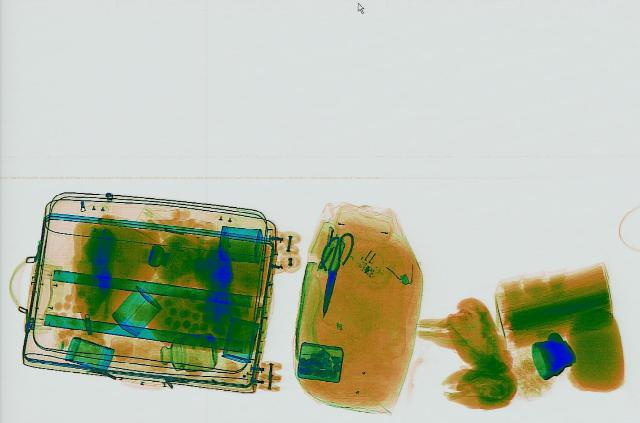Scissors: (304, 229, 356, 316)
